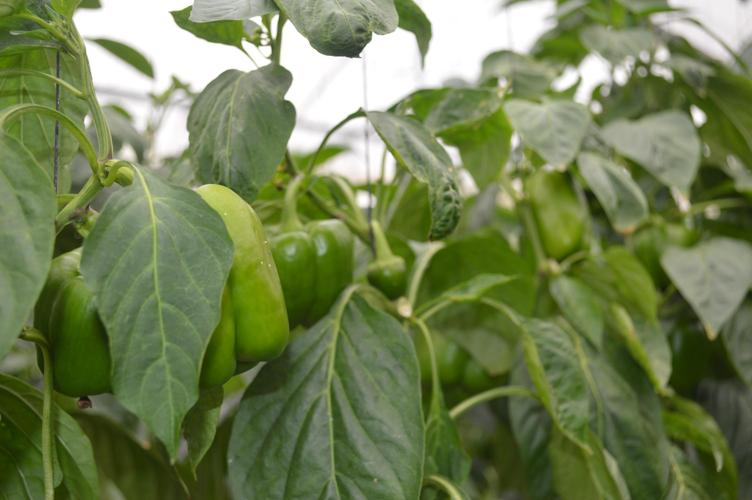BellPepper: (190, 183, 286, 374), (27, 247, 110, 397), (268, 217, 354, 329)
